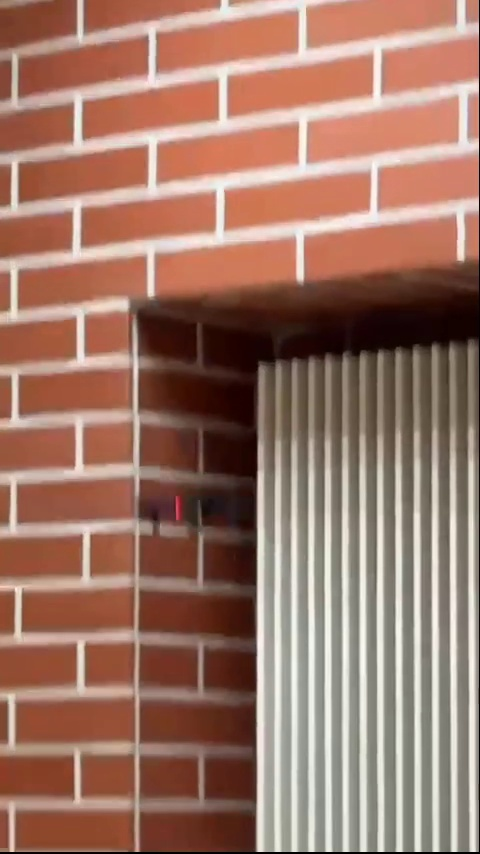drone: (148, 488, 277, 541)
